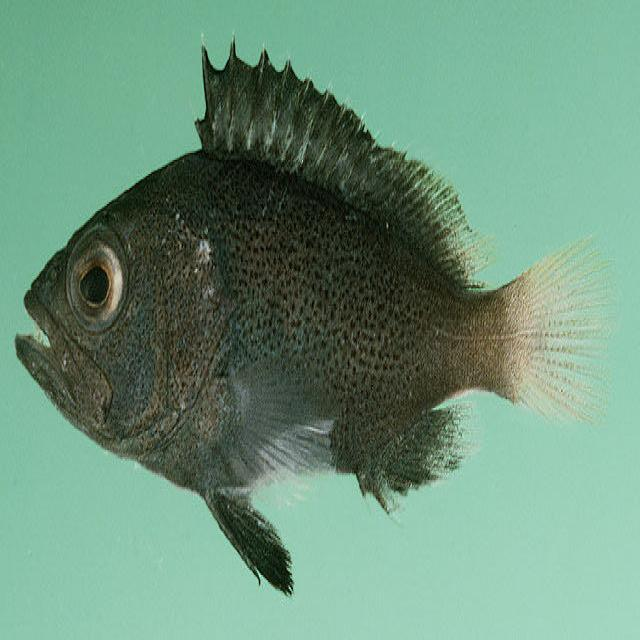ikan: (14, 32, 617, 596)
